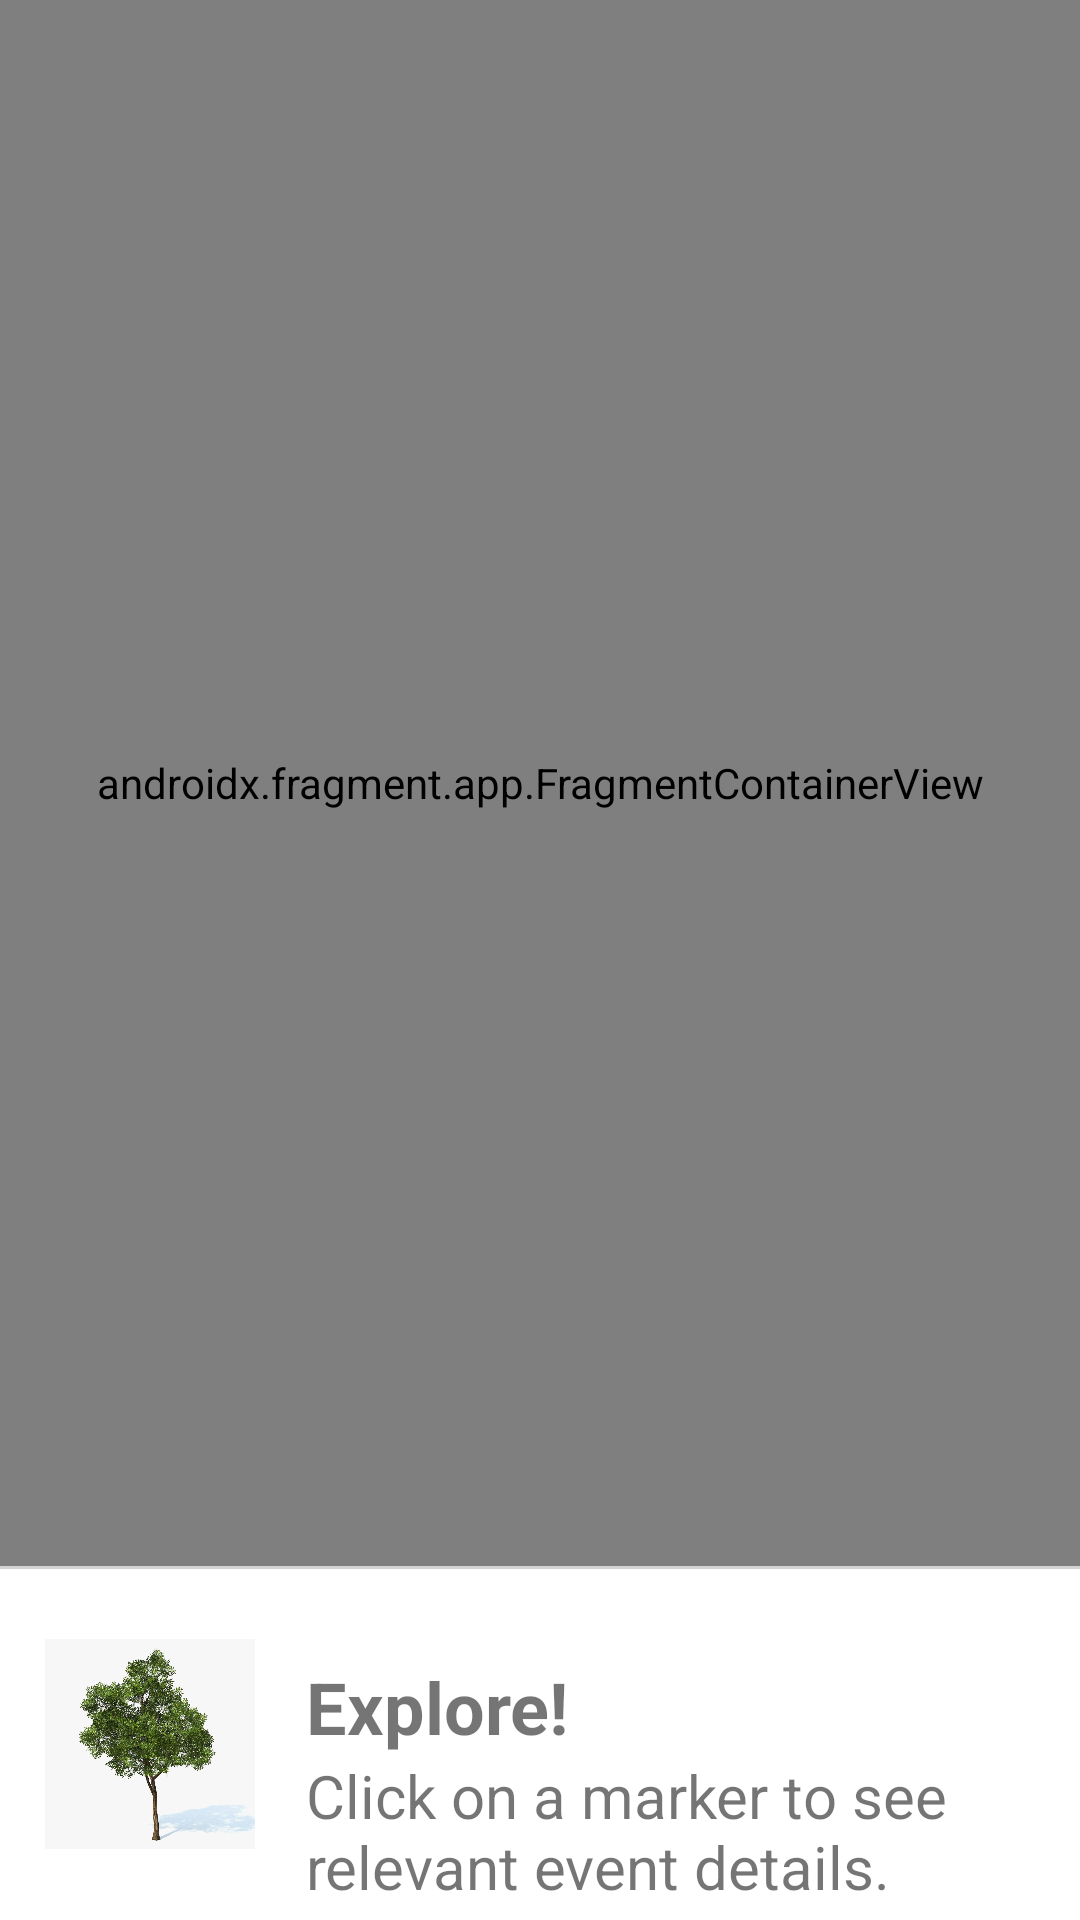

Icon click points for this 1080 × 1920 phone screenshot, format [x,y]:
tree: [167,1744]
